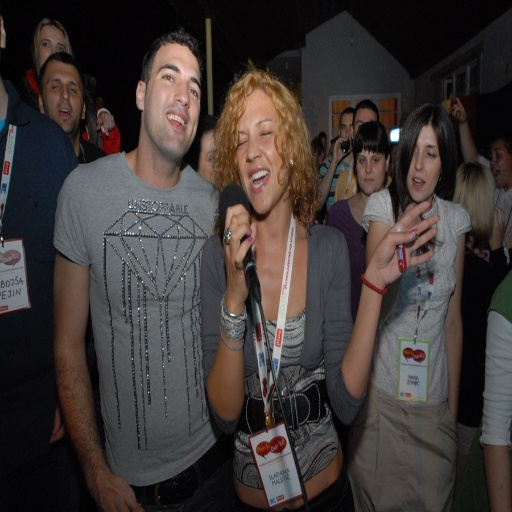hand: (212, 187, 258, 320), (372, 199, 440, 286), (91, 472, 143, 511), (47, 402, 67, 445), (486, 203, 503, 253), (93, 108, 113, 138), (331, 137, 351, 163), (449, 96, 465, 123), (439, 95, 453, 112), (502, 225, 511, 247)
